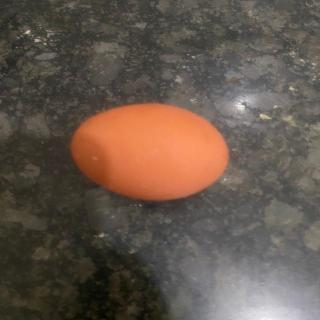Telur: (68, 100, 237, 204)
